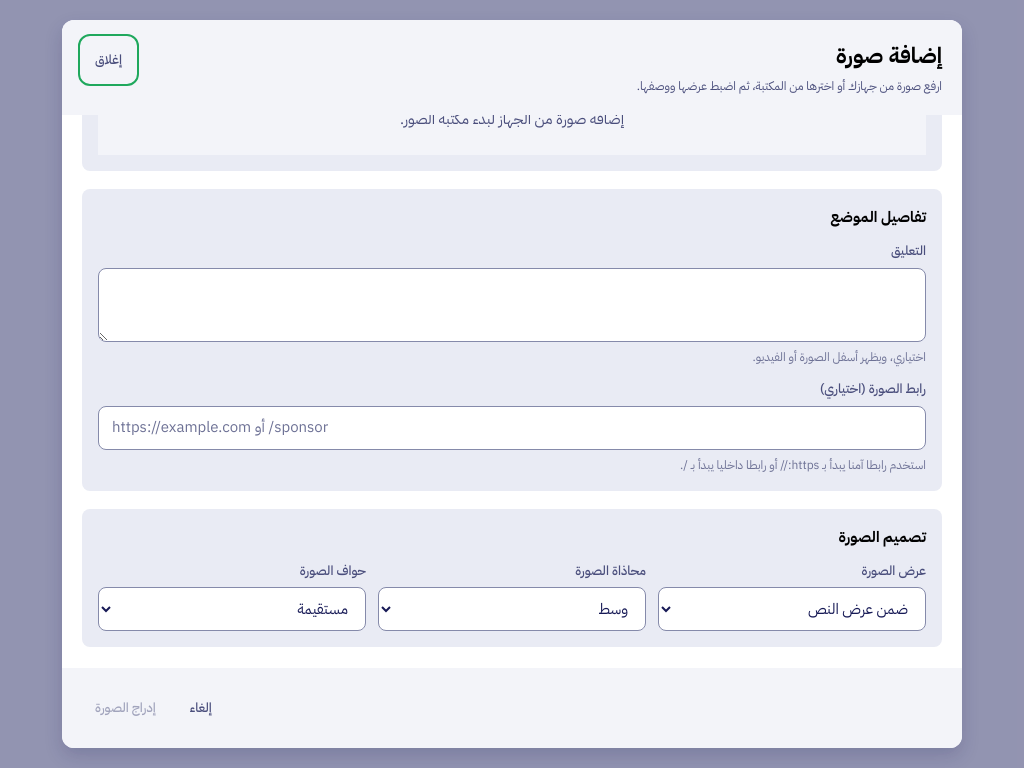
Test case: ArticleMediaDialog › offers only safe image design values and explains wide-image alignment
(page scrolled)
Expected: the dropdown labelled "محاذاة الصورة" shows "وسط", [378,588,646,632]
Expected: the dropdown labelled "حواف الصورة" shows "مستقيمة", [98,588,366,632]
Select "عرض واسع" in the dropdown labelled "عرض الصورة": (792, 610) [658,588,926,632]
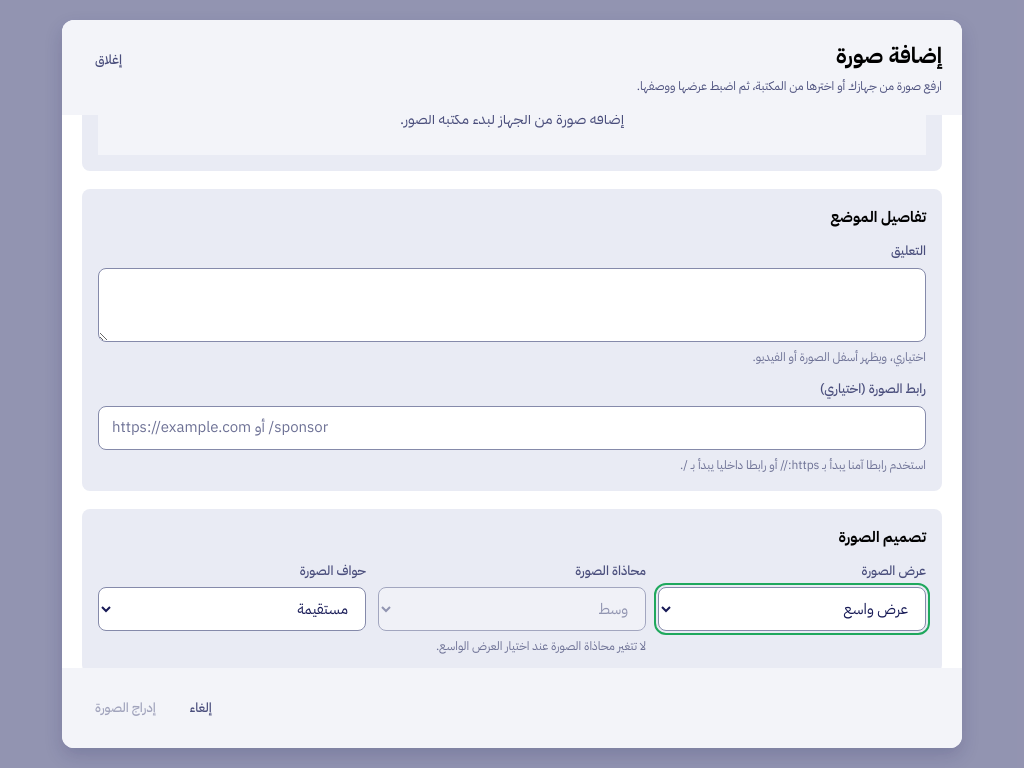
Expected: the dropdown labelled "محاذاة الصورة" is disabled, [378,588,646,632]
Expected: the text "لا تتغير محاذاة الصورة عند اختيار العرض الواسع." is shown, [436,638,646,656]
